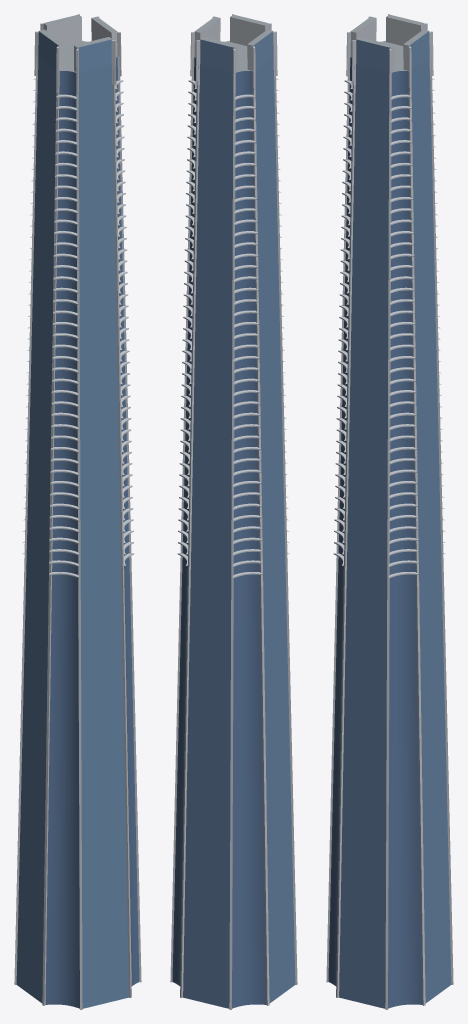
File: shenzhen-citymark-centre.detail.glb
3 views of the same model, side by side, from view 1: azimuth 30°, elevation 25°; view 2: azimuth 150°, elevation 25°; view 3: azimuth 330°, elevation 25° (orthographic).
Visible parts, largest first — view 1: Citymark Centre; view 2: Citymark Centre; view 3: Citymark Centre.
Part boxes in pixels (x1,y1,x2,y2): Citymark Centre: (14, 14, 141, 1009); Citymark Centre: (170, 14, 297, 1009); Citymark Centre: (326, 14, 453, 1009).
Size of the model in its own units: 42.28 by 388 by 42.28.
